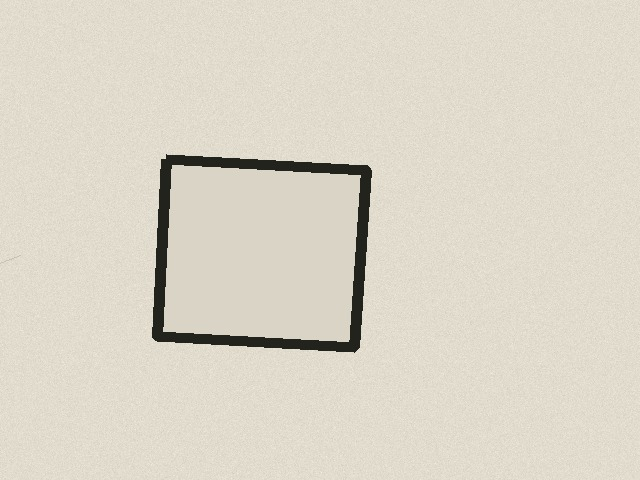parking_area: (157, 159, 366, 347)
